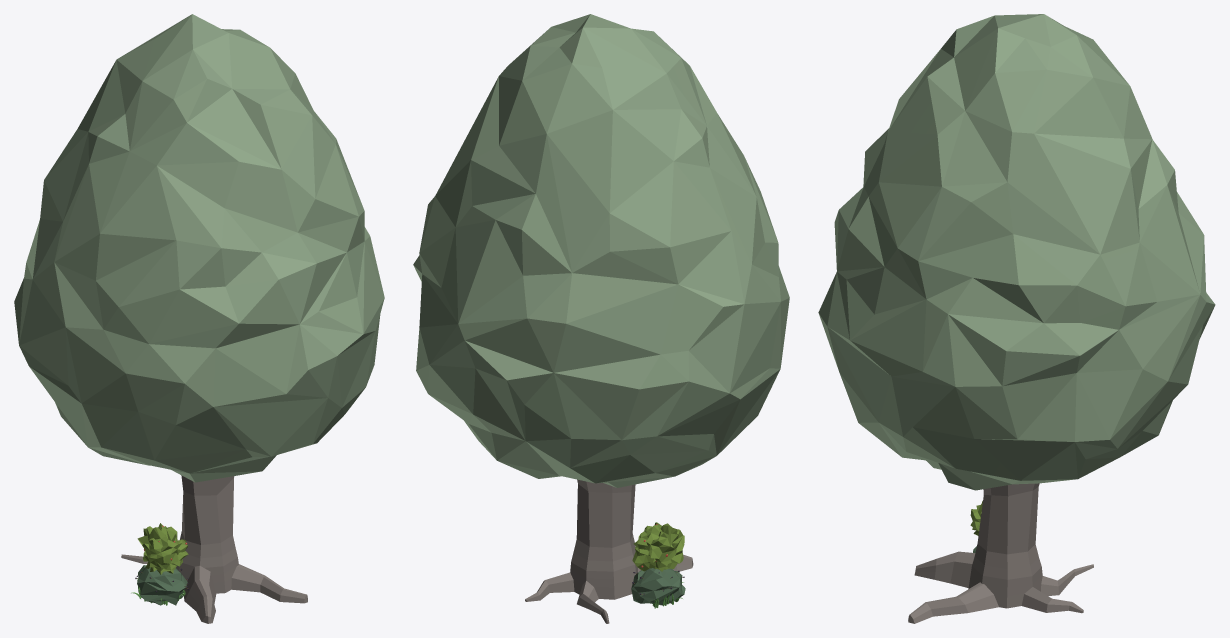
Rendered from Moss.fbx.
3 views of the same model, side by side, from view 1: azimuth 30°, elevation 25°; view 2: azimuth 150°, elevation 25°; view 3: azimuth 270°, elevation 25° (orthographic). The views are drawn at different scales.
Parts seen in each view (by area): view 1: pCylinder11, pCylinder2, Bramble; view 2: pCylinder11, pCylinder2, Bramble; view 3: pCylinder11.
Part boxes in pixels (x1,y1,x2,y2): pCylinder11: [14, 14, 384, 623]; pCylinder2: [137, 523, 188, 574]; Bramble: [135, 565, 188, 605]; pCylinder11: [413, 14, 789, 623]; pCylinder2: [632, 522, 684, 571]; Bramble: [631, 568, 685, 605]; pCylinder11: [818, 14, 1215, 623].
Size of the model in its own units: 724 by 1231 by 757.
